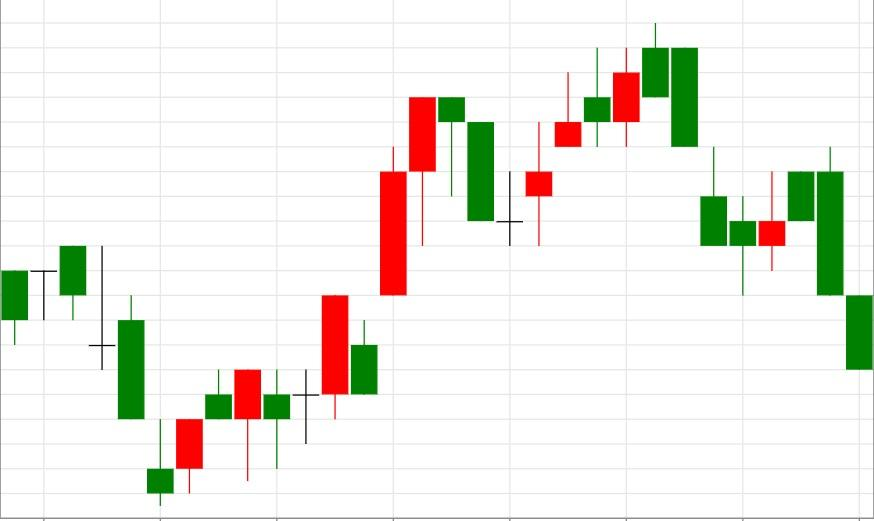hanging_man_fall: (146, 97, 466, 506)
inverse_hammer_rise: (59, 244, 175, 506)
